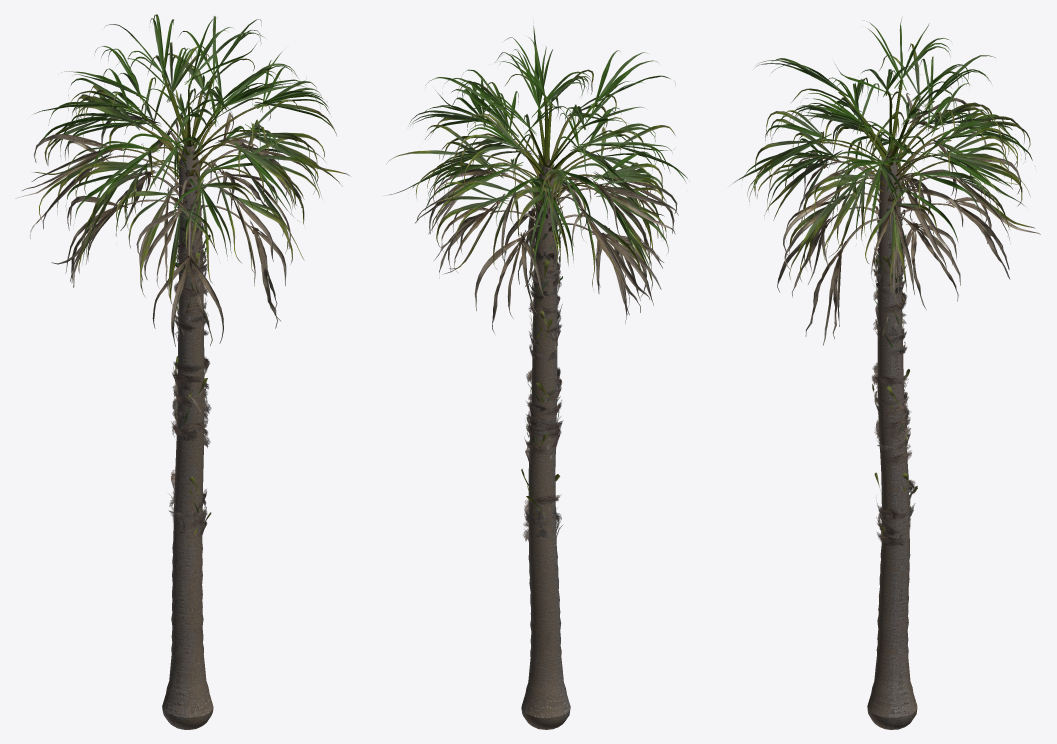
File: fan_palm.glb
3 views of the same model, side by side, from view 1: azimuth 30°, elevation 25°; view 2: azimuth 150°, elevation 25°; view 3: azimuth 270°, elevation 25° (orthographic). The views are drawn at different scales.
Visible parts, largest first — view 1: Washingtonia_Robusta_2_w; view 2: Washingtonia_Robusta_2_w; view 3: Washingtonia_Robusta_2_w.
Part boxes in pixels (box(x1,y1,x2,y2)): Washingtonia_Robusta_2_w: box(15, 14, 350, 729); Washingtonia_Robusta_2_w: box(386, 22, 687, 729); Washingtonia_Robusta_2_w: box(731, 17, 1040, 729).
Size of the model in its own units: 5.63 by 12.99 by 5.48.
7 materials, 7 textured.
